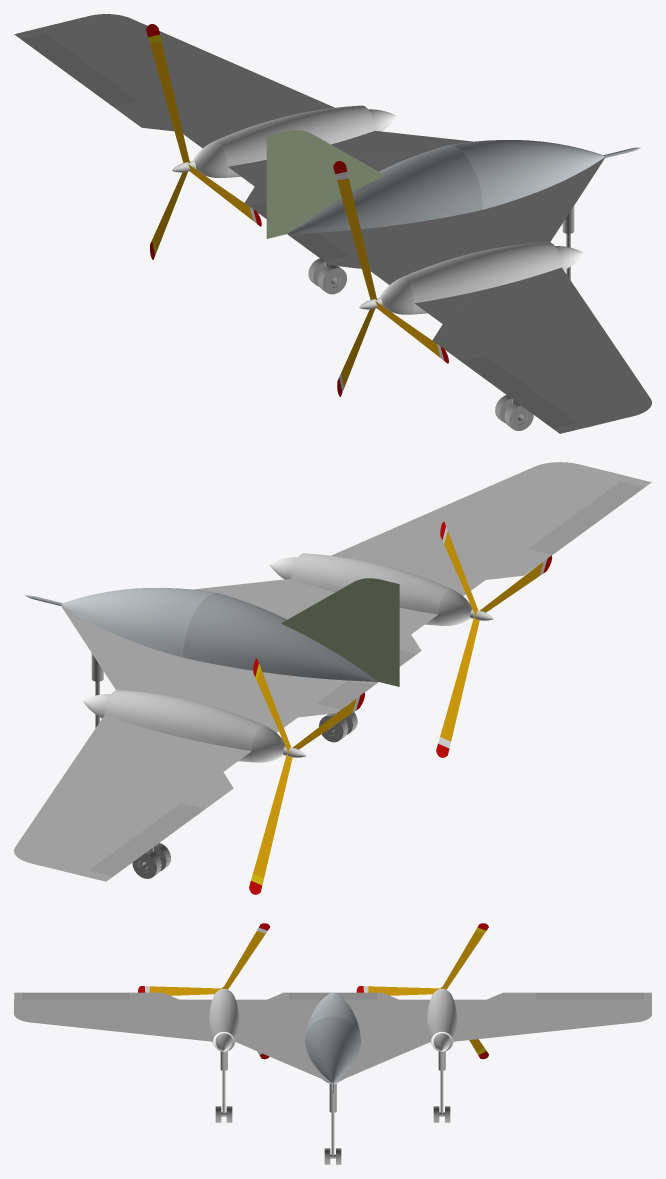
The model's file is full_model copy.dae.
3 renders of one model, top to bottom at view 1: azimuth 30°, elevation 25°; view 2: azimuth 150°, elevation 25°; view 3: azimuth 270°, elevation 25°, orthographic. The views are drawn at different scales.
Visible parts, largest first — view 1: SketchUp, prop-01, prop-01.006, Landing_Gear-01.001, Landing_Gear-01.002; view 2: SketchUp, prop-01.006, prop-01; view 3: SketchUp, prop-01, prop-01.006, Landing_Gear-01, Landing_Gear-01.001, Landing_Gear-01.002.
Boxes of the visible parts, x1,y1,x2,y2 form: SketchUp: [14, 14, 651, 433]; prop-01: [146, 24, 261, 259]; prop-01.006: [333, 161, 448, 396]; Landing_Gear-01.001: [318, 262, 346, 294]; Landing_Gear-01.002: [504, 399, 533, 430]; SketchUp: [14, 462, 651, 881]; prop-01.006: [436, 522, 552, 757]; prop-01: [249, 659, 364, 894]; SketchUp: [14, 989, 651, 1093]; prop-01: [356, 923, 488, 1059]; prop-01.006: [138, 923, 269, 1059]; Landing_Gear-01: [324, 1083, 336, 1164]; Landing_Gear-01.001: [433, 1051, 445, 1122]; Landing_Gear-01.002: [215, 1051, 227, 1122].
Size of the model in its own units: 91.89 by 63.67 by 231.
